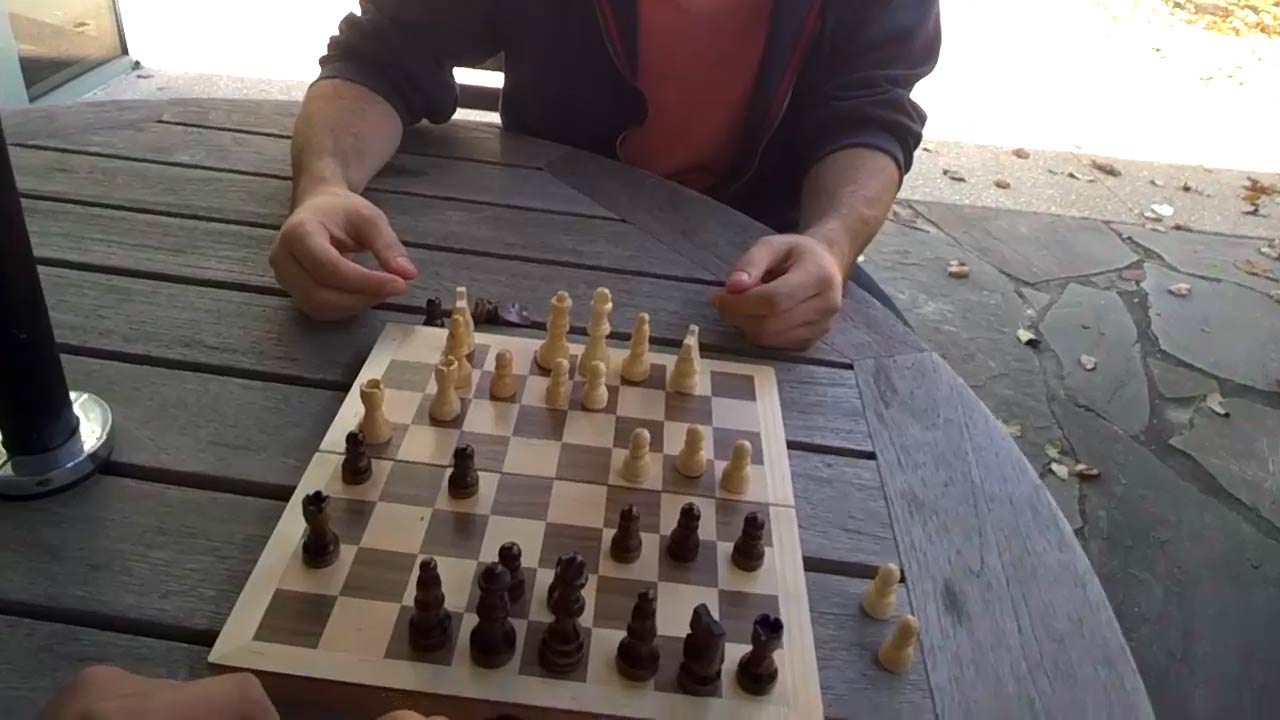hand: (275, 187, 409, 316), (712, 237, 839, 345), (39, 668, 271, 715)
